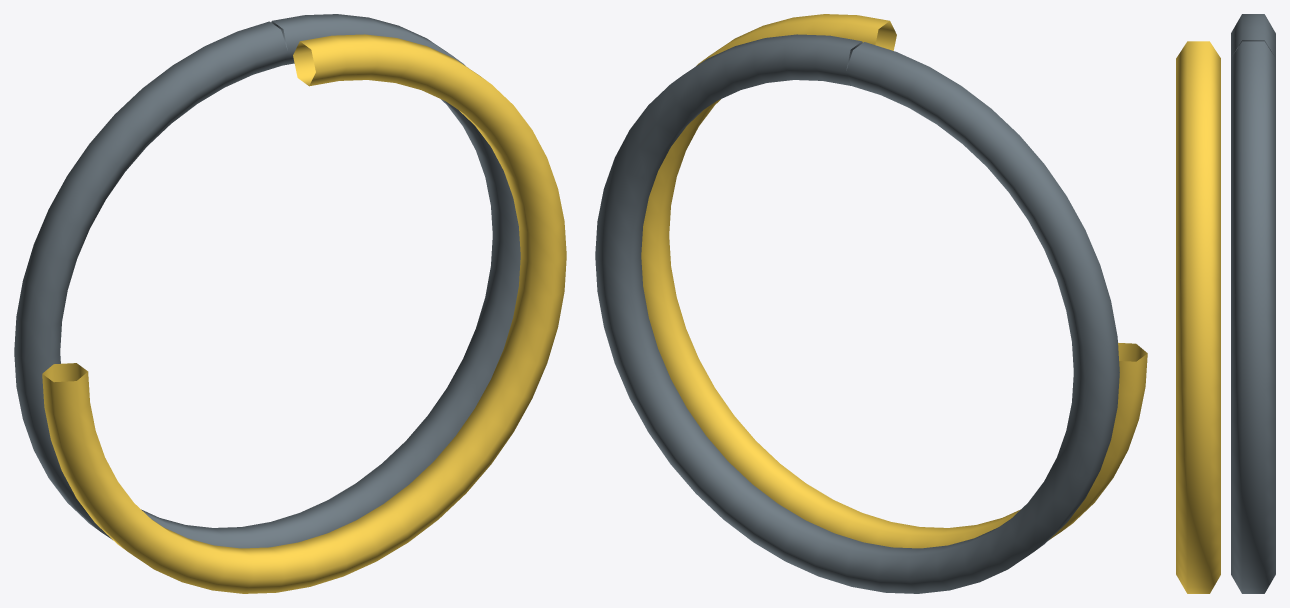
File: progress-75.glb
3 views of the same model, side by side, from view 1: azimuth 30°, elevation 25°; view 2: azimuth 150°, elevation 25°; view 3: azimuth 270°, elevation 25° (orthographic). The views are drawn at different scales.
Visible parts, largest first — view 1: progress, background; view 2: background, progress; view 3: background, progress.
Boxes of the visible parts, x1=… form: progress: x1=42, y1=34, x2=566, y2=593; background: x1=14, y1=14, x2=520, y2=548; background: x1=595, y1=34, x2=1119, y2=593; progress: x1=641, y1=14, x2=1147, y2=548; background: x1=1231, y1=14, x2=1275, y2=593; progress: x1=1176, y1=41, x2=1220, y2=593.
Size of the model in its own units: 0.9006 by 0.9006 by 0.155.
